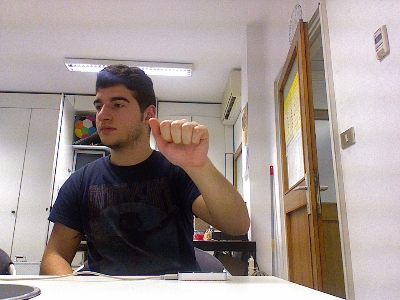石头: (145, 113, 210, 168)
